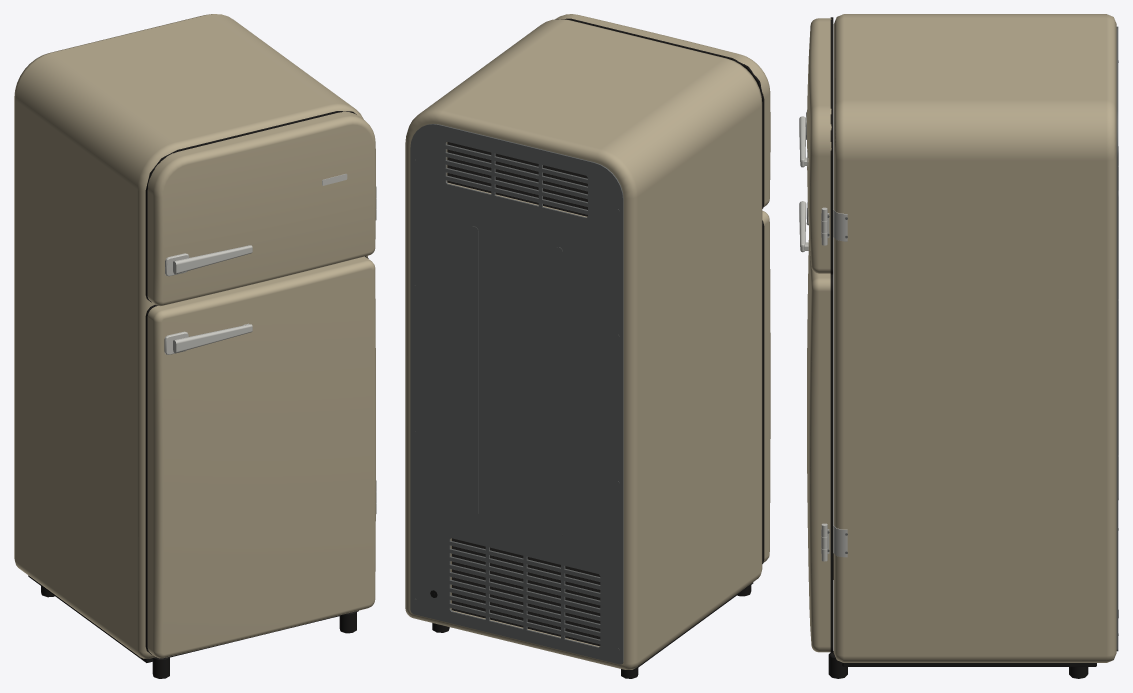
File: fridge-small-73d35c539bbf.glb
3 renders of one model, left to right at view 1: azimuth 30°, elevation 25°; view 2: azimuth 150°, elevation 25°; view 3: azimuth 270°, elevation 25°, orthographic. The views are drawn at different scales.
Parts seen in each view (by area): view 1: enamel-beige, rubber-foot, chrome; view 2: enamel-beige, metal, plastic-dark, rubber-foot; view 3: enamel-beige, rubber-foot, chrome, metal.
Boxes of the visible parts, box(x1,y1,x2,y2) form: enamel-beige: box(14, 14, 375, 658); rubber-foot: box(28, 111, 368, 678); chrome: box(164, 174, 376, 513); enamel-beige: box(405, 14, 770, 669); metal: box(410, 124, 623, 664); plastic-dark: box(447, 142, 600, 646); rubber-foot: box(430, 18, 764, 678); enamel-beige: box(807, 14, 1116, 662); rubber-foot: box(828, 17, 1118, 678); chrome: box(799, 112, 847, 561); metal: box(827, 26, 1118, 651).
Bounding box in the file's own units: 0.6732 × 1.48 × 0.7536.
